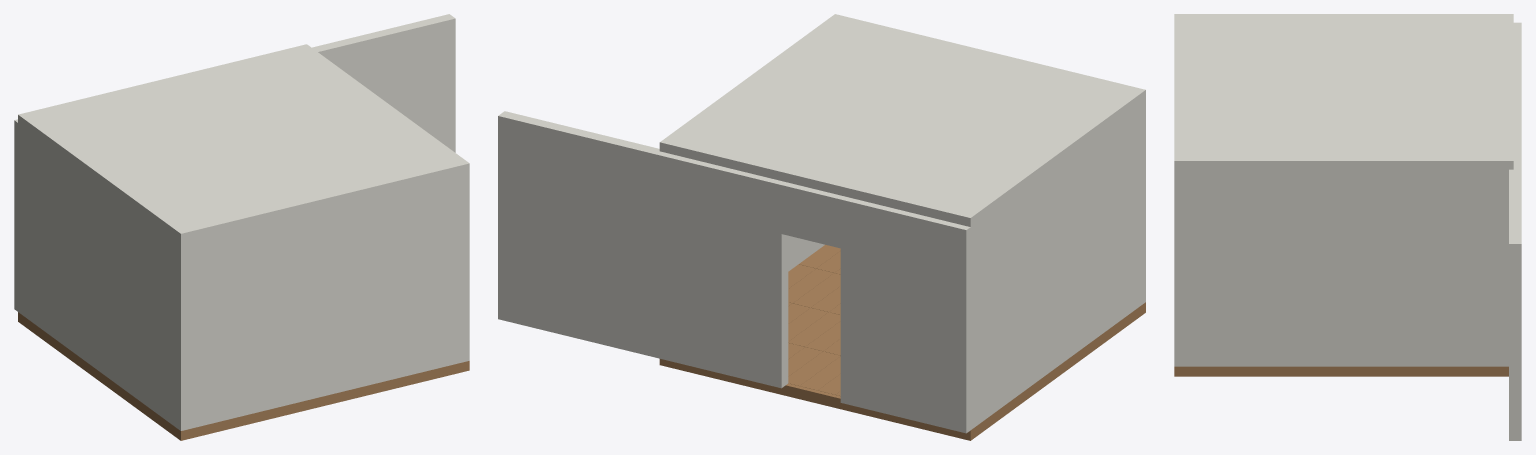
Rendered from za-drzwiami.glb.
3 renders of one model, left to right at view 1: azimuth 30°, elevation 25°; view 2: azimuth 150°, elevation 25°; view 3: azimuth 270°, elevation 25°, orthographic. The views are drawn at different scales.
Parts seen in each view (by area): view 1: Sciana_nowa_tylna, Sufit_nowy, Sciana_nowa_lewa, Sciana_przednia_prawa, Podloga_nowa, Sciana_nowa_prawa, Sciana_przednia_lewa; view 2: Sciana_przednia_prawa, Sufit_nowy, Sciana_nowa_lewa, Sciana_przednia_lewa, Deski_nowe, Podloga_nowa, Nadproze, Sciana_nowa_tylna, Sciana_nowa_prawa; view 3: Sciana_nowa_prawa, Sufit_nowy, Sciana_przednia_prawa, Podloga_nowa, Sciana_nowa_tylna, Sciana_przednia_lewa.
Part boxes in pixels (bbox=[...]): Sciana_nowa_tylna: bbox=[174, 173, 469, 430]; Sufit_nowy: bbox=[18, 44, 469, 241]; Sciana_nowa_lewa: bbox=[20, 125, 191, 430]; Sciana_przednia_prawa: bbox=[312, 14, 455, 152]; Podloga_nowa: bbox=[18, 312, 469, 440]; Sciana_nowa_prawa: bbox=[459, 172, 469, 362]; Sciana_przednia_lewa: bbox=[14, 119, 20, 313]; Sciana_przednia_prawa: bbox=[498, 111, 788, 388]; Sufit_nowy: bbox=[659, 14, 1145, 226]; Sciana_nowa_lewa: bbox=[973, 99, 1145, 428]; Sciana_przednia_lewa: bbox=[840, 196, 972, 433]; Deski_nowe: bbox=[788, 245, 840, 395]; Podloga_nowa: bbox=[659, 251, 1145, 440]; Nadproze: bbox=[781, 182, 844, 248]; Sciana_nowa_tylna: bbox=[1139, 99, 1145, 306]; Sciana_nowa_prawa: bbox=[788, 235, 824, 271]; Sciana_nowa_prawa: bbox=[1174, 169, 1508, 366]; Sufit_nowy: bbox=[1174, 14, 1513, 169]; Sciana_przednia_prawa: bbox=[1509, 110, 1521, 440]; Podloga_nowa: bbox=[1174, 366, 1508, 376]; Sciana_nowa_tylna: bbox=[1174, 169, 1186, 366]; Sciana_przednia_lewa: bbox=[1513, 22, 1521, 82].
Bounding box in the file's own units: 6.51 × 2.96 × 4.32.
